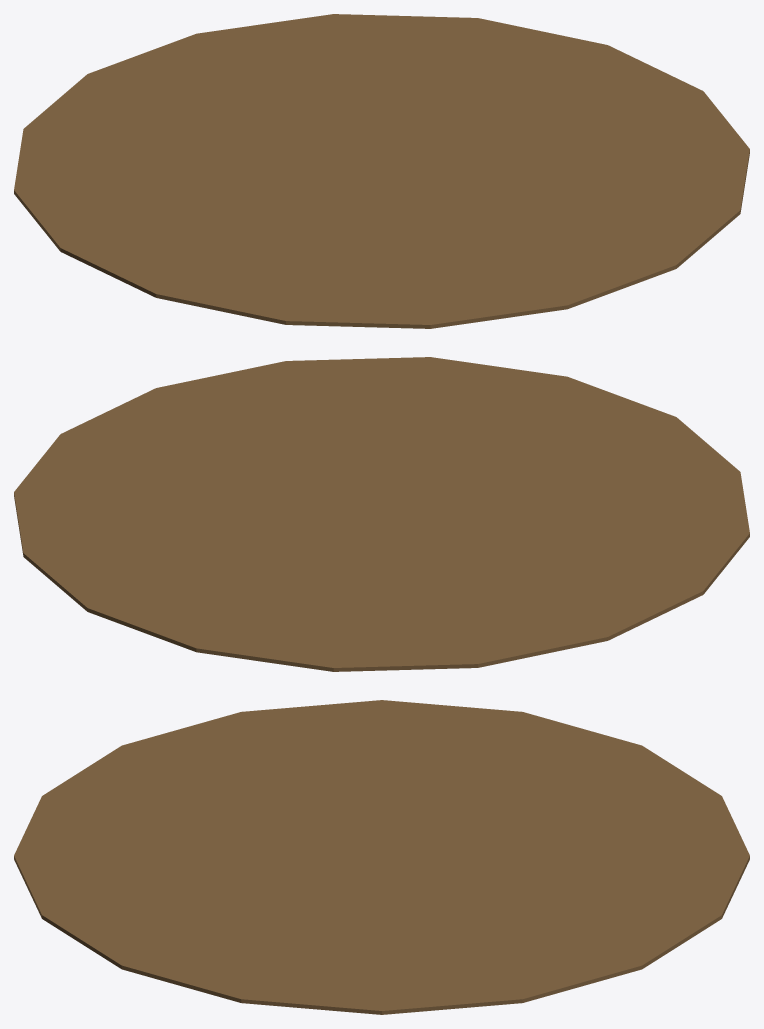
File: RoadTile_5.fbx
3 renders of one model, top to bottom at view 1: azimuth 30°, elevation 25°; view 2: azimuth 150°, elevation 25°; view 3: azimuth 270°, elevation 25°, orthographic.
Visible parts, largest first — view 1: RoadTile_5; view 2: RoadTile_5; view 3: RoadTile_5.
Boxes of the visible parts, x1=… form: RoadTile_5: x1=14, y1=14, x2=749, y2=328; RoadTile_5: x1=14, y1=357, x2=749, y2=671; RoadTile_5: x1=14, y1=700, x2=749, y2=1014.
Bounding box in the file's own units: 541 × 3.15 × 541.
